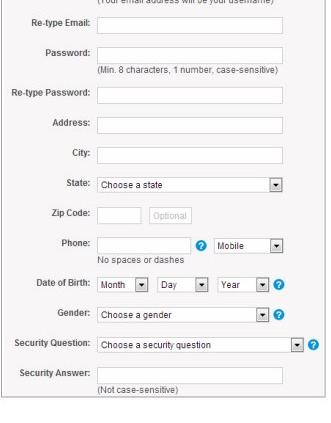button: (149, 206, 193, 226)
field: (95, 335, 305, 354), (94, 46, 283, 66), (94, 146, 285, 165), (93, 86, 283, 105), (93, 116, 283, 135), (95, 366, 285, 385), (94, 17, 283, 35), (95, 176, 285, 193), (96, 306, 270, 324), (96, 236, 193, 255), (213, 236, 286, 255), (95, 205, 141, 226), (96, 277, 148, 295), (155, 276, 209, 293), (218, 277, 270, 293)
field_with_label: (10, 83, 285, 107), (15, 334, 308, 356), (20, 364, 288, 387), (45, 43, 286, 68), (53, 114, 285, 137), (73, 143, 286, 168), (31, 16, 285, 36), (56, 303, 273, 326), (66, 174, 287, 195), (61, 233, 196, 256), (36, 275, 151, 296), (52, 203, 142, 228)
